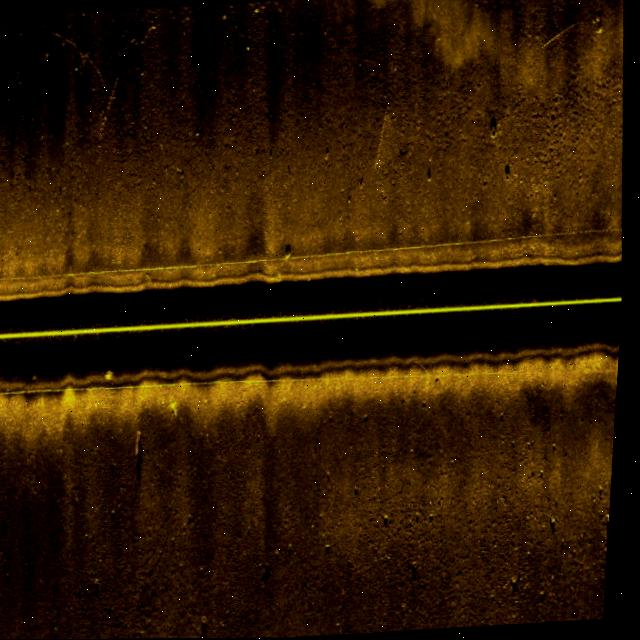mine: (132, 428, 154, 487)
